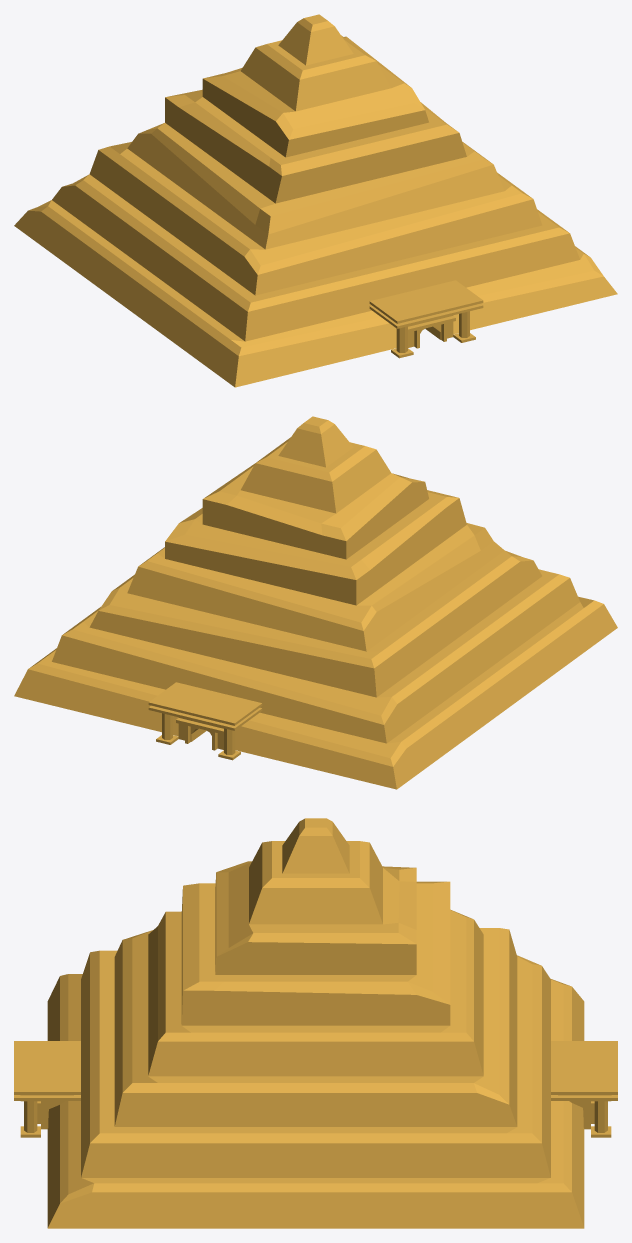
3 views of the same model, one above another, from view 1: azimuth 30°, elevation 25°; view 2: azimuth 150°, elevation 25°; view 3: azimuth 270°, elevation 25° (orthographic). The views are drawn at different scales.
Parts seen in each view (by area): view 1: Pyramid; view 2: Pyramid; view 3: Pyramid.
Boxes of the visible parts, x1,y1,x2,y2 form: Pyramid: [14, 14, 617, 387]; Pyramid: [14, 416, 617, 789]; Pyramid: [14, 818, 617, 1228].
Size of the model in its own units: 160 by 96 by 180.
